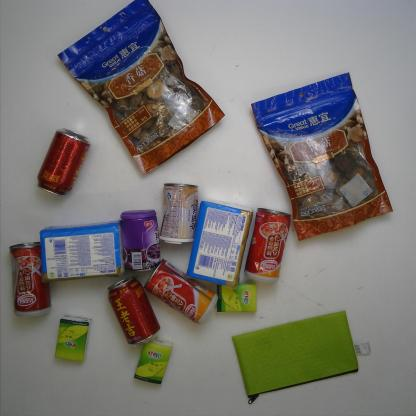Canned Food: (142, 255, 221, 328), (240, 204, 295, 288), (8, 241, 53, 319), (157, 180, 201, 248), (119, 208, 162, 273)
Dried Food: (54, 0, 227, 178), (245, 68, 396, 244)
Drink: (34, 124, 93, 200), (106, 274, 162, 349)
Stationery: (228, 308, 375, 408)
Tissue: (183, 196, 255, 292), (38, 218, 126, 284), (133, 338, 174, 386), (54, 314, 92, 362), (216, 280, 258, 314)
